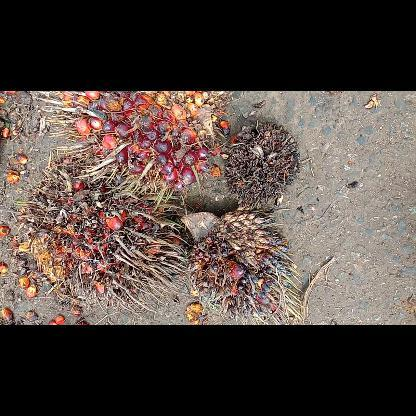TBS abnormal: (178, 204, 310, 324), (225, 118, 299, 204)
TBS masak: (52, 90, 220, 196)
Terlalu masak: (19, 154, 188, 300)
